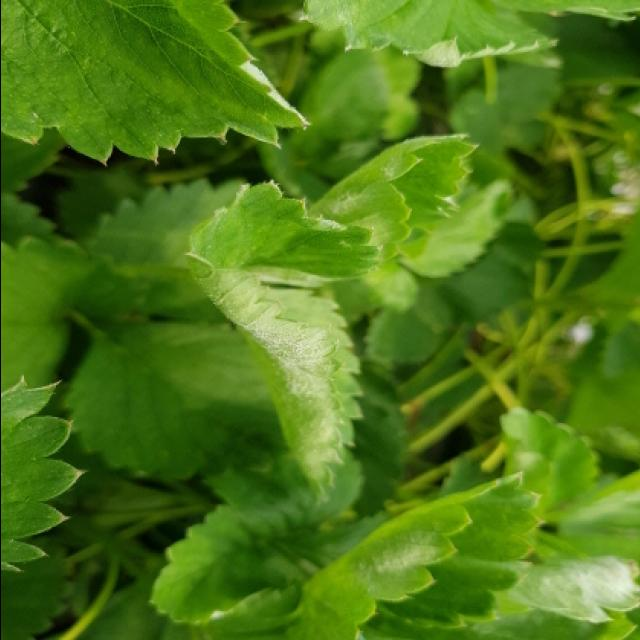Powdery Mildew Leaf: (2, 0, 311, 166), (175, 251, 362, 501), (283, 470, 544, 638), (306, 134, 479, 271), (188, 179, 381, 288), (513, 554, 640, 624)
